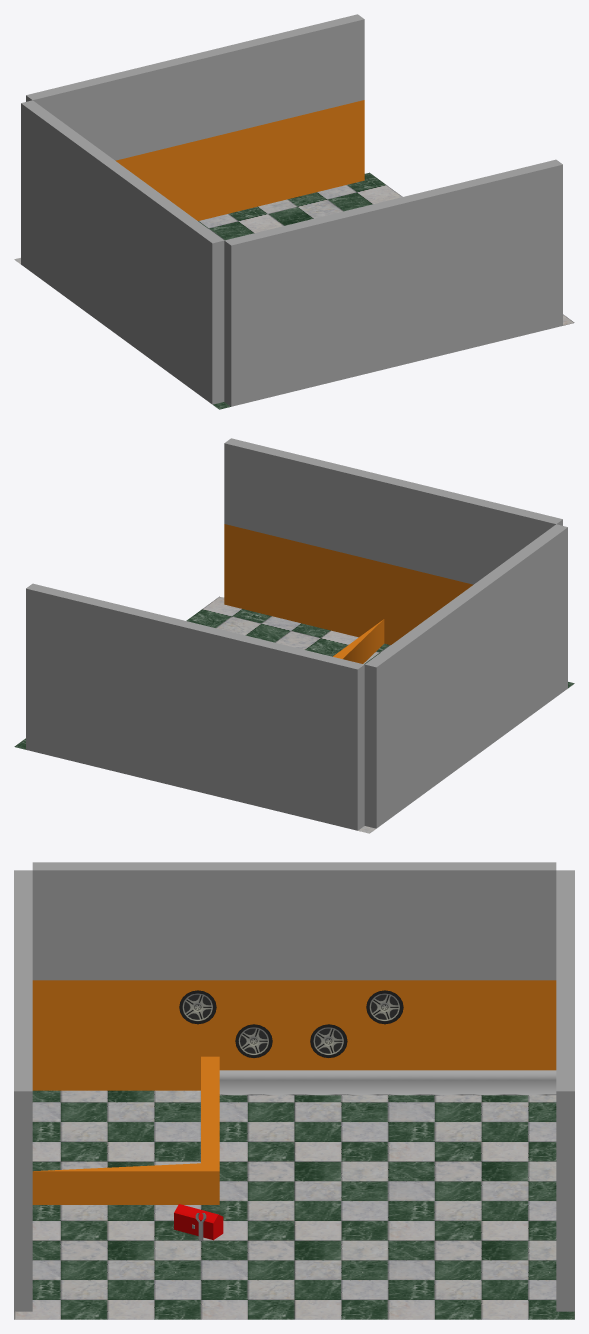
File: chipshop.fbx
3 renders of one model, top to bottom at view 1: azimuth 30°, elevation 25°; view 2: azimuth 150°, elevation 25°; view 3: azimuth 270°, elevation 25°, orthographic. The views are drawn at different scales.
Visible parts, largest first — view 1: left_wall, right_wall, back_wall, floor; view 2: right_wall, left_wall, back_wall, floor, desk; view 3: floor, back_wall, desk, ridge, right_wall, left_wall, toolbox, wheel1, wheel2, wheel4, wheel3.
Boxes of the visible parts, x1,y1,x2,y2 form: left_wall: (224, 159, 562, 406); right_wall: (26, 14, 364, 220); back_wall: (21, 100, 224, 404); floor: (14, 172, 574, 409); right_wall: (26, 583, 364, 830); left_wall: (224, 438, 562, 644); back_wall: (364, 524, 567, 828); floor: (14, 596, 574, 833); desk: (333, 619, 384, 663); floor: (14, 1090, 574, 1319); back_wall: (32, 862, 556, 1090); desk: (32, 1056, 219, 1204); ridge: (219, 1070, 556, 1095); right_wall: (556, 870, 574, 1311); left_wall: (14, 870, 32, 1311); toolbox: (174, 1204, 223, 1240); wheel1: (179, 990, 216, 1024); wheel2: (235, 1024, 272, 1057); wheel4: (366, 990, 403, 1024); wheel3: (310, 1024, 347, 1057).
Bounding box in the file's own units: 30 × 13.01 × 30.
7 materials, 2 textured.
